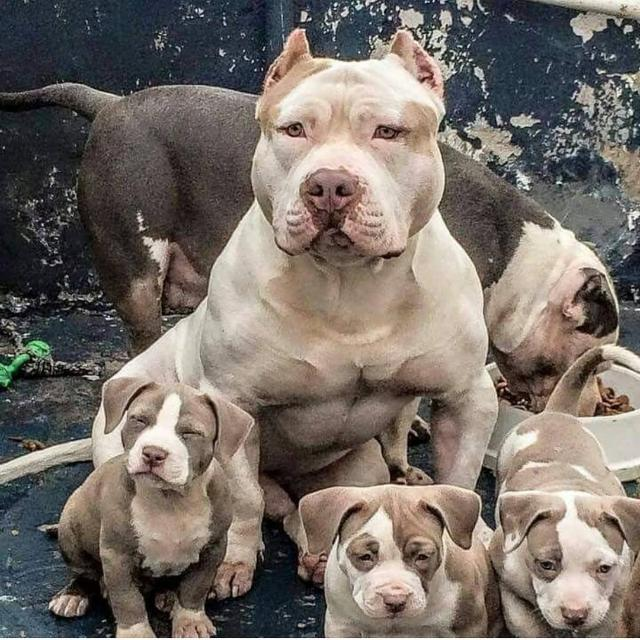amstaff: (5, 30, 500, 598), (2, 83, 621, 422), (46, 380, 267, 638), (490, 346, 640, 639), (287, 484, 503, 639)
